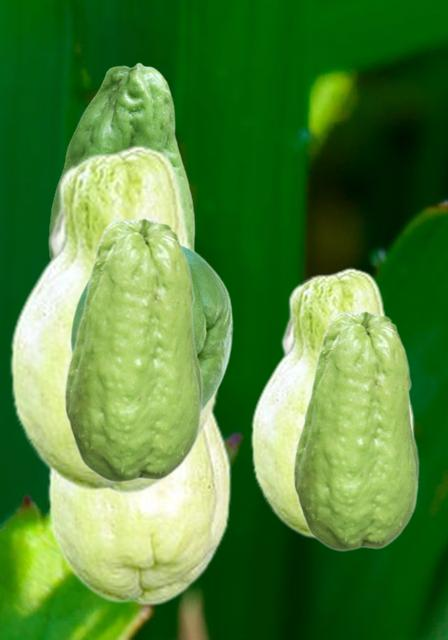sayote: (9, 144, 219, 494), (250, 267, 413, 540), (63, 217, 203, 483), (47, 407, 230, 605), (292, 310, 419, 551), (48, 62, 194, 255), (69, 245, 232, 412)
